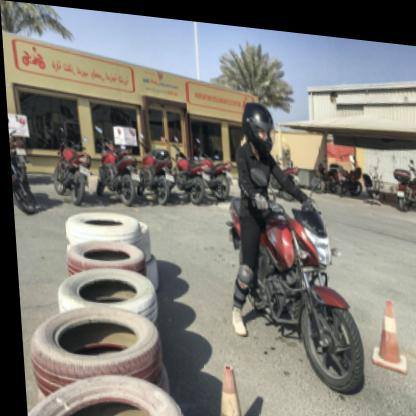With Helmet: (235, 91, 281, 157)
